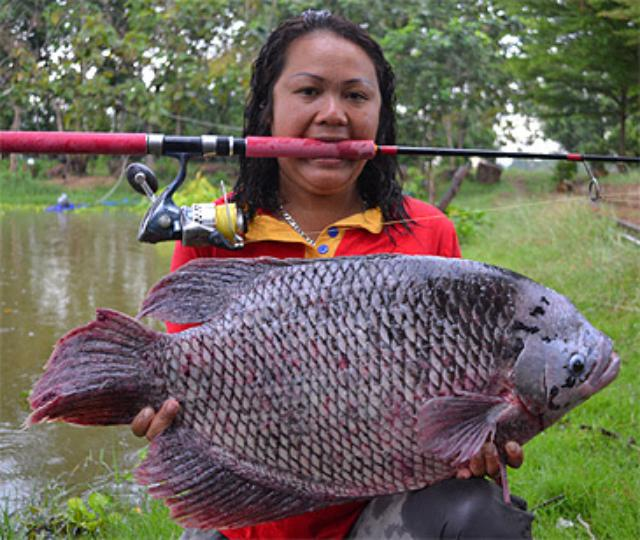Mulut: (548, 312, 640, 418)
Sirip Anal: (110, 413, 388, 540)
Sirip Dada: (394, 370, 532, 490)
Sirip Ekor: (20, 290, 188, 454)
Sirip Punggung: (131, 240, 337, 348)
